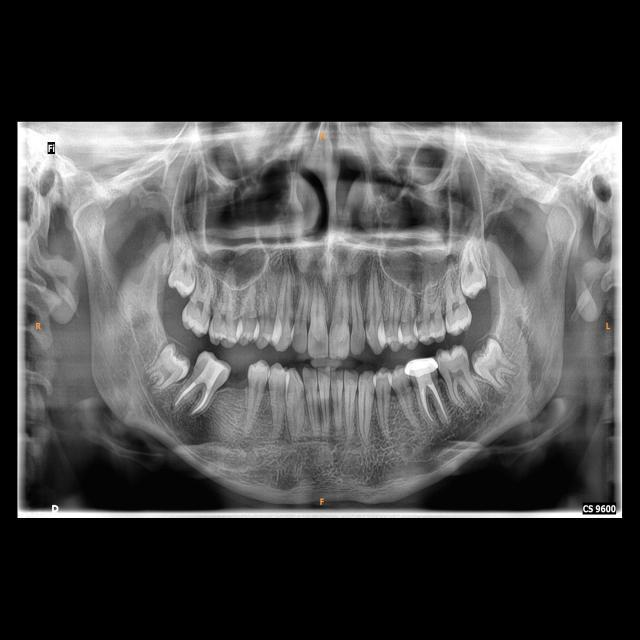dolgu: (196, 352, 226, 388)
kanal-tedavisi: (418, 383, 449, 428), (171, 383, 213, 415)
kaplama: (407, 355, 438, 377)
